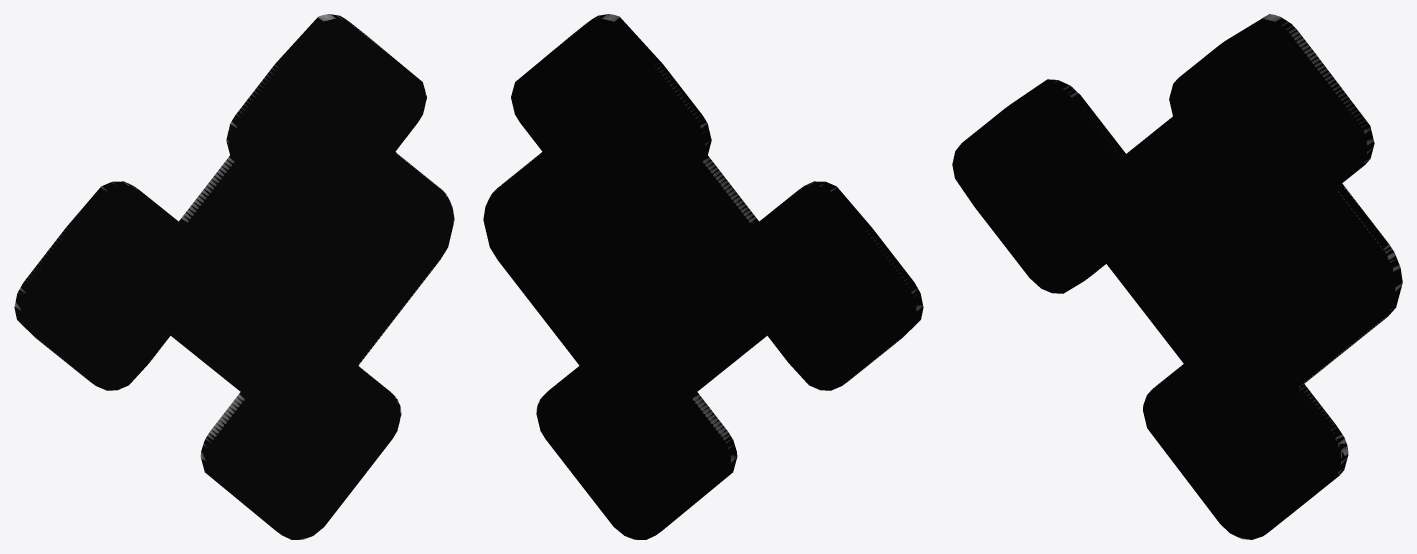
Rendered from Leaf5.obj.
3 renders of one model, left to right at view 1: azimuth 30°, elevation 25°; view 2: azimuth 150°, elevation 25°; view 3: azimuth 330°, elevation 25°, orthographic. The views are drawn at different scales.
Parts seen in each view (by area): view 1: Leaf5; view 2: Leaf5; view 3: Leaf5.
Part boxes in pixels (bbox=[...]): Leaf5: bbox=[14, 14, 454, 539]; Leaf5: bbox=[483, 14, 923, 539]; Leaf5: bbox=[952, 14, 1402, 539].
Size of the model in its own units: 45.04 by 50.98 by 1.08.
Materials: 1 (1 with a texture image).
